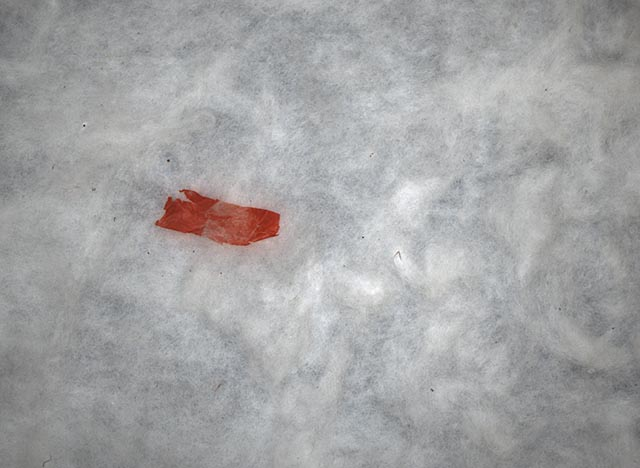plastic film: (154, 189, 280, 246)
